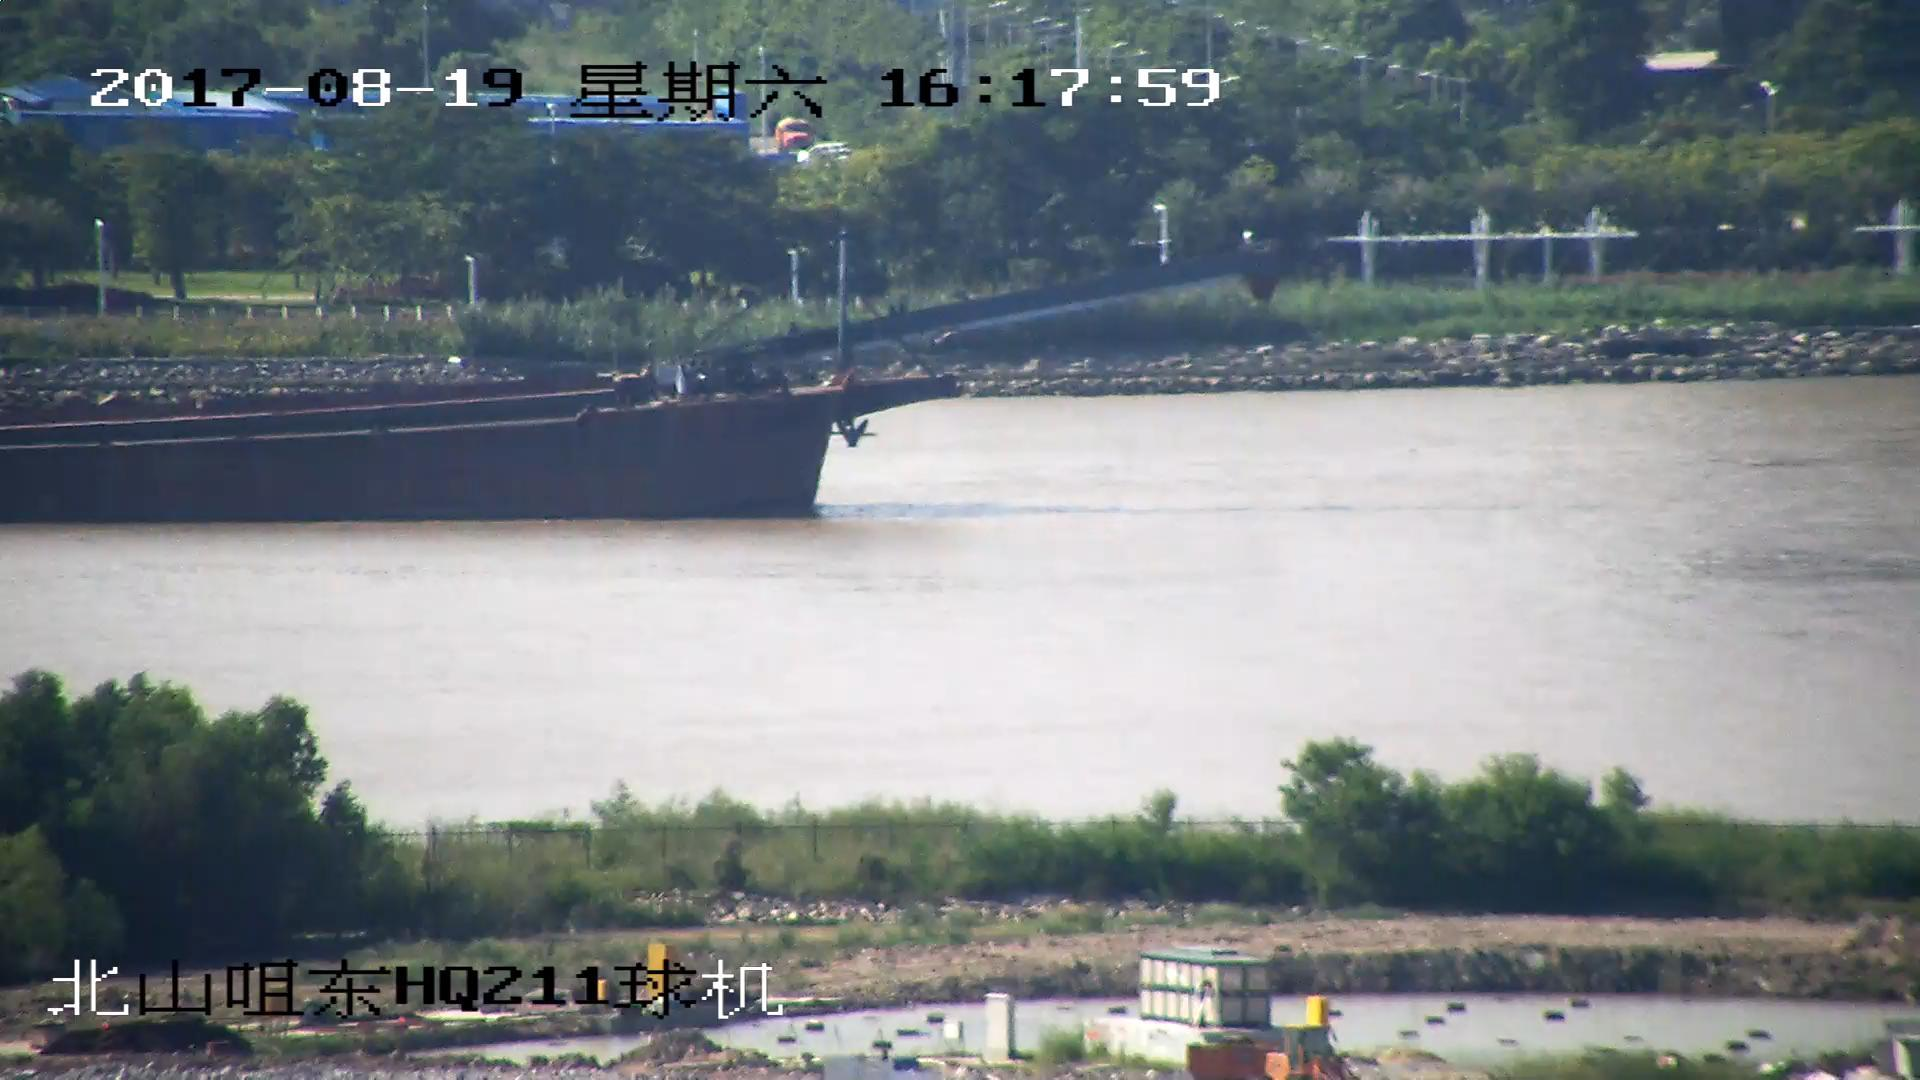Ship: (3, 236, 1259, 526)
